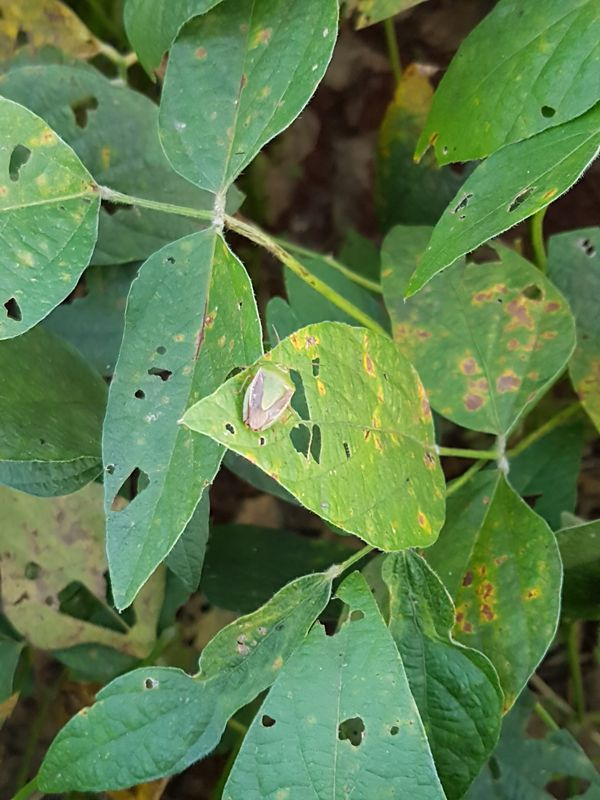Edessa_meditabunda: (228, 329, 320, 445)
